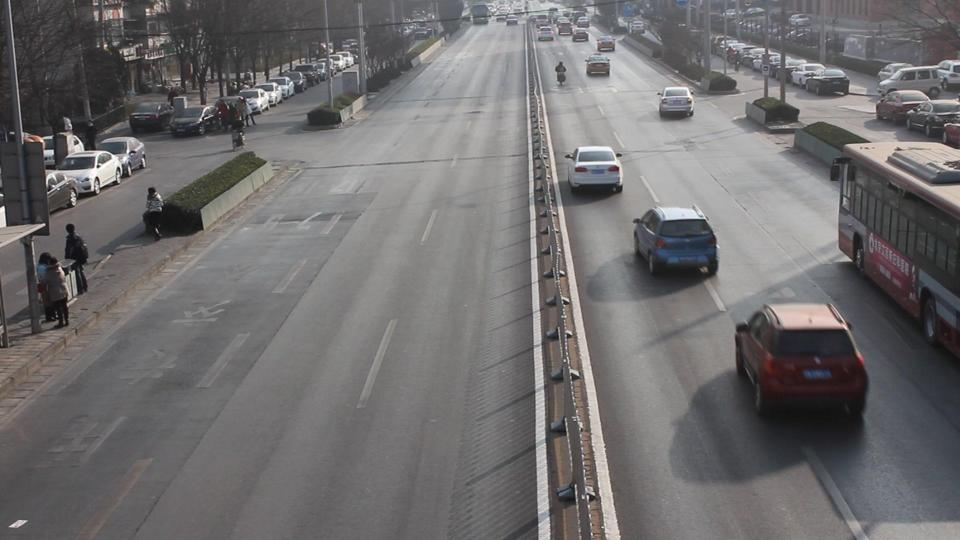Bus: (834, 142, 960, 353)
Car: (733, 297, 871, 427), (631, 206, 722, 281), (567, 146, 626, 195), (660, 87, 698, 119), (585, 54, 613, 78)
